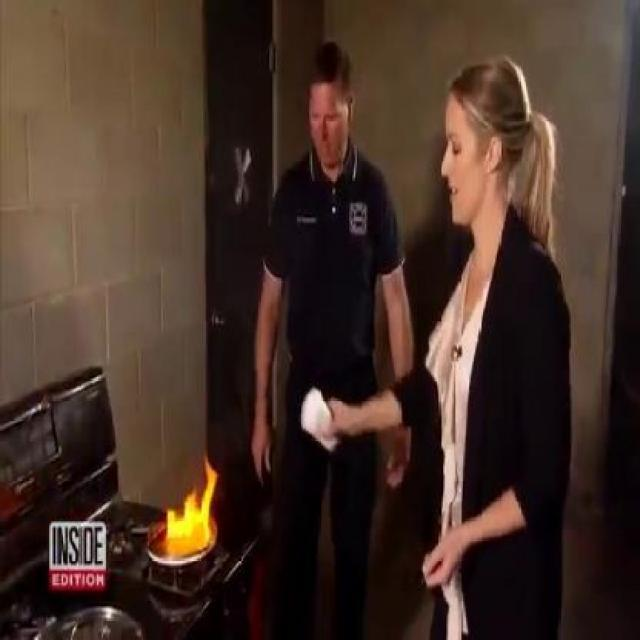fire: (152, 454, 208, 562)
